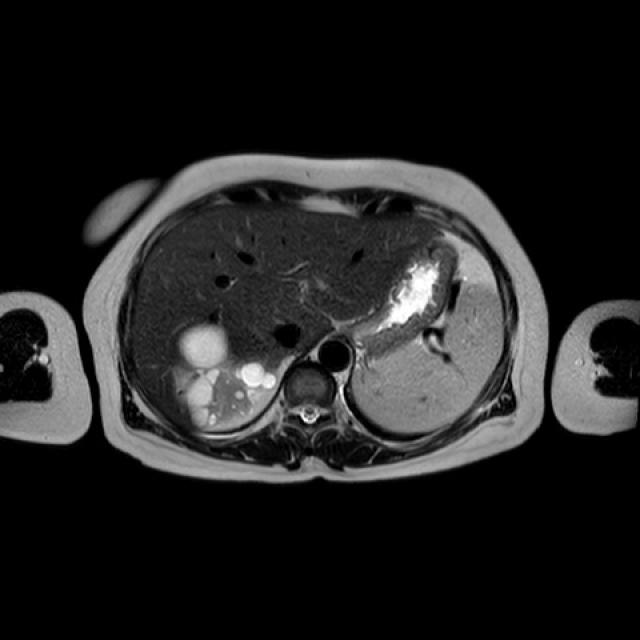sag: (173, 323, 278, 429)
